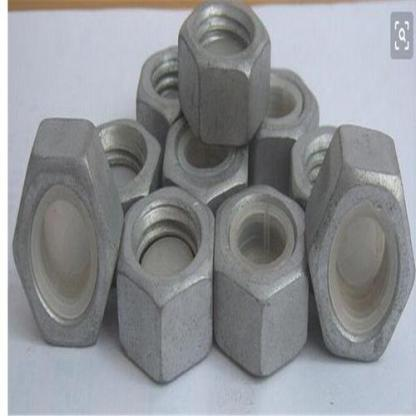FOD: (304, 119, 414, 364), (10, 116, 123, 351), (110, 184, 214, 383), (212, 181, 306, 382), (176, 0, 274, 150), (247, 64, 323, 185), (159, 110, 250, 210), (132, 43, 211, 145), (86, 117, 160, 207), (290, 119, 355, 206)
